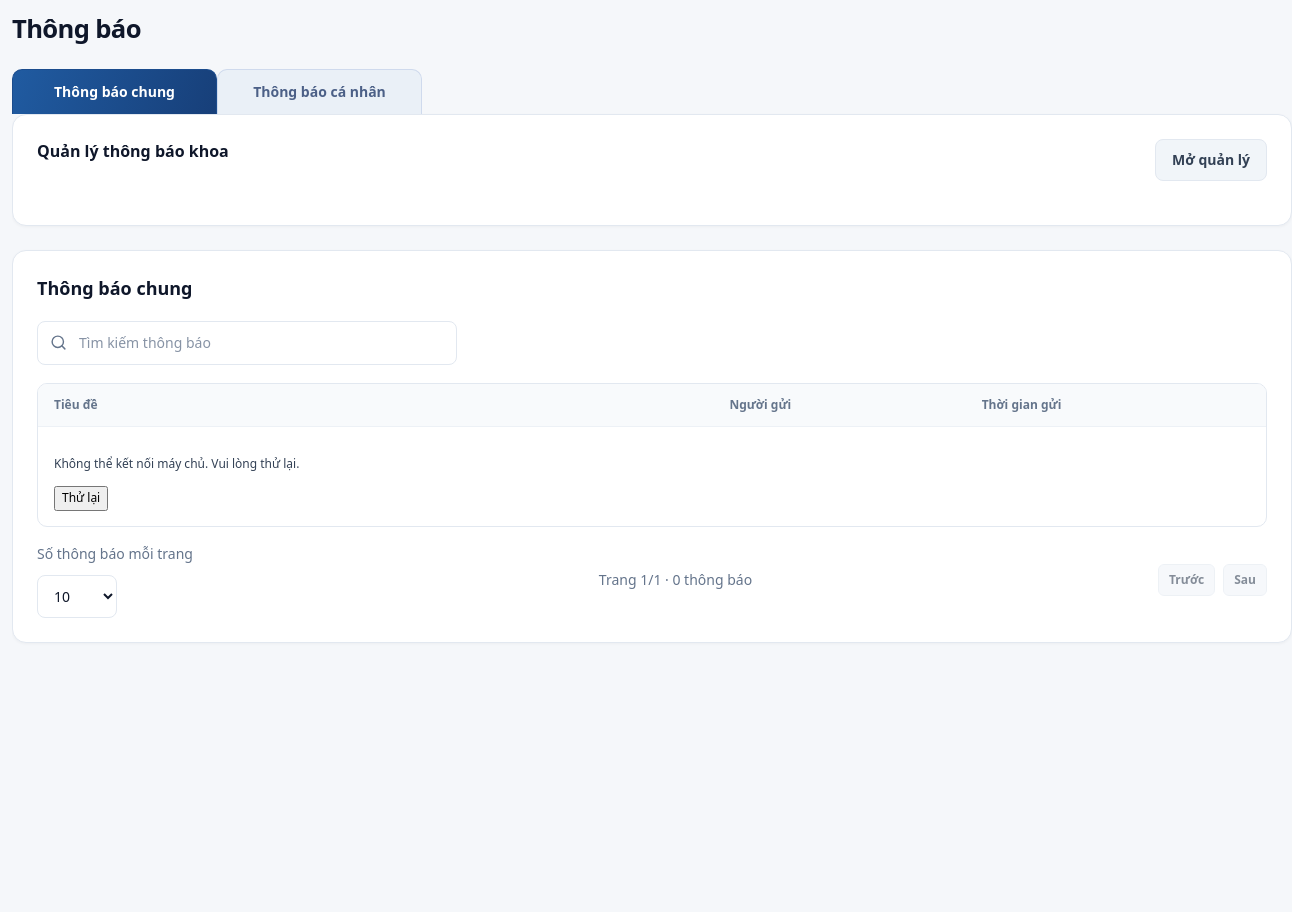
Test: shows errors with retry and a searchable empty state
Expected: the message "Không thể kết nối máy chủ. Vui lòng thử lại." is shown, [54, 455, 299, 472]
Step 1. Click the button "Thử lại" → click(81, 498), box [54, 486, 108, 511]
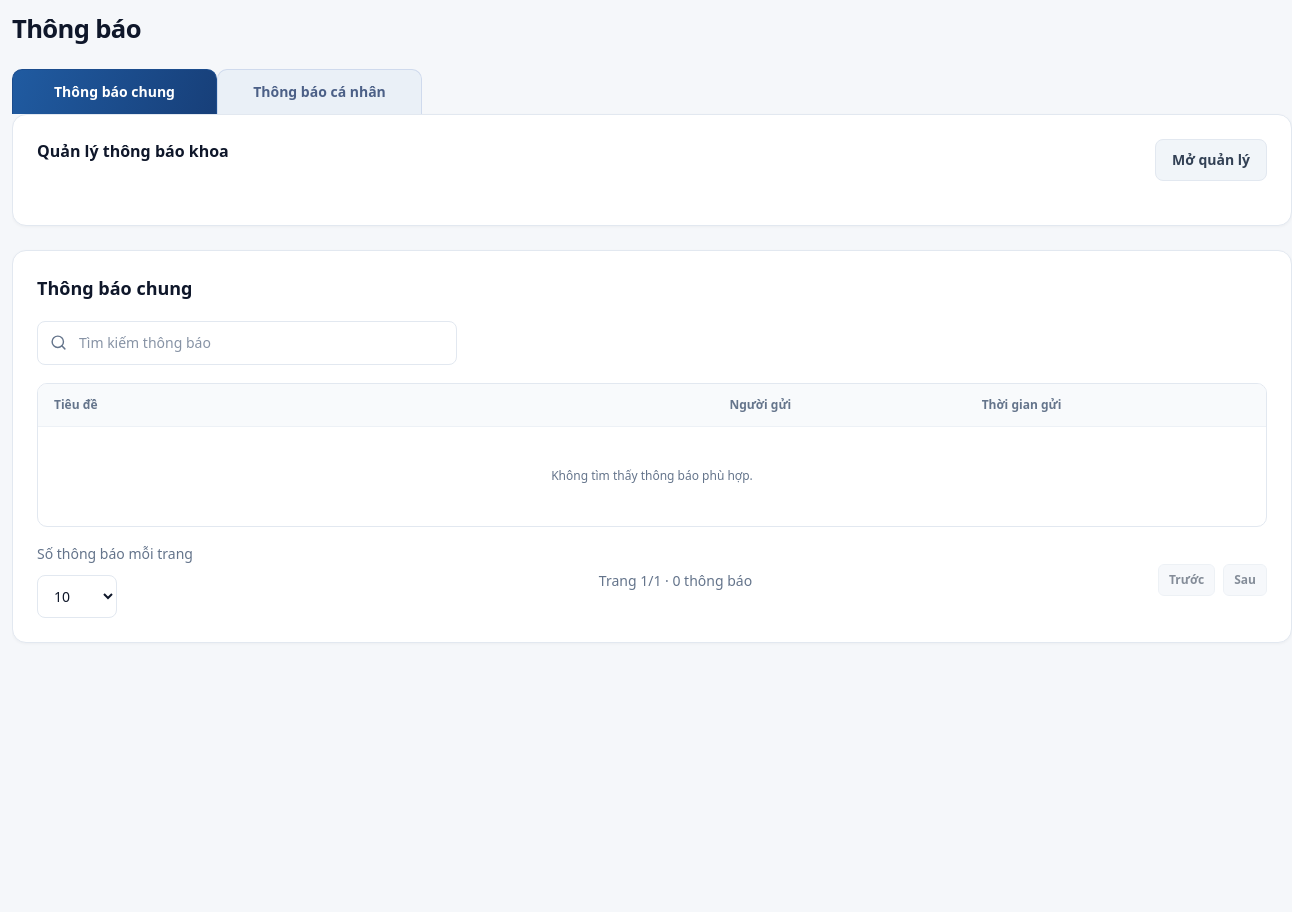
Expected: the search field named "Tìm kiếm thông báo chung" is shown, [77, 322, 444, 364]
Expected: the text "Không tìm thấy thông báo phù hợp." is shown, [38, 427, 1266, 526]
